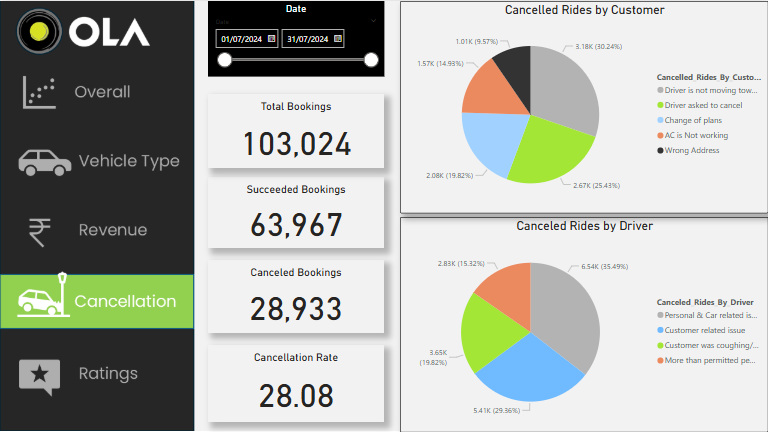

The page's visual inventory and layout, read from the dashboard file:
{"tool":"powerbi","page":{"name":"Cancellation","canvas":[1280,720],"ordinal":3},"visuals":[{"type":"actionButton","box":[0,226.1,325.4,92.2],"z":0},{"type":"actionButton","box":[0,108,325.4,92.2],"z":1000},{"type":"actionButton","box":[0,338.4,325.4,92.2],"z":2000},{"type":"actionButton","box":[0,221.8,325.4,92.2],"z":3000},{"type":"actionButton","box":[0,573.1,325.4,92.2],"z":4000},{"type":"pieChart","title":"Cancelled Rides by Customer","fields":{"Y":["CountNonNull(July.Canceled_Rides_by_Customer)"],"Category":["July.Canceled_Rides_by_Customer"]},"box":[666,0,614,354],"z":5000},{"type":"pieChart","title":"Canceled Rides by Driver","fields":{"Y":["CountNonNull(July.Canceled_Rides_by_Driver)"],"Category":["July.Canceled_Rides_by_Driver"]},"box":[666,360.7,614,359],"z":6000},{"type":"card","title":"Total Bookings","fields":{"Values":["CountNonNull(July.Booking_ID)"]},"box":[347.3,154.3,293.6,124.1],"z":7000},{"type":"slicer","title":"Date","fields":{"Values":["July.Date"]},"box":[347.3,0,293.6,125.8],"z":8000},{"type":"card","title":"Succeeded Bookings","fields":{"Values":["CountNonNull(July.Booking_ID)"]},"box":[347.3,293.6,293.6,119.1],"z":9000},{"type":"card","title":"Canceled Bookings","fields":{"Values":["CountNonNull(July.Booking_ID)"]},"box":[347.3,431.1,293.6,120.8],"z":10000},{"type":"card","title":"Cancellation Rate","fields":{"Values":["July.CanceledPercentage"]},"box":[347.3,573.7,293.6,129.2],"z":11000}]}

Visuals, with their boxes on the page's 1280x720 design canvas (x1, y1, x2, y2). These are canvas units, not pixel positions in the 768x432 screenshot, which may show the page scaled, cropped or inside an application window:
actionButton: 0 226 325 318
actionButton: 0 108 325 200
actionButton: 0 338 325 431
actionButton: 0 222 325 314
actionButton: 0 573 325 665
"Cancelled Rides by Customer" pieChart: 666 0 1280 354
"Canceled Rides by Driver" pieChart: 666 361 1280 720
"Total Bookings" card: 347 154 641 278
"Date" slicer: 347 0 641 126
"Succeeded Bookings" card: 347 294 641 413
"Canceled Bookings" card: 347 431 641 552
"Cancellation Rate" card: 347 574 641 703
